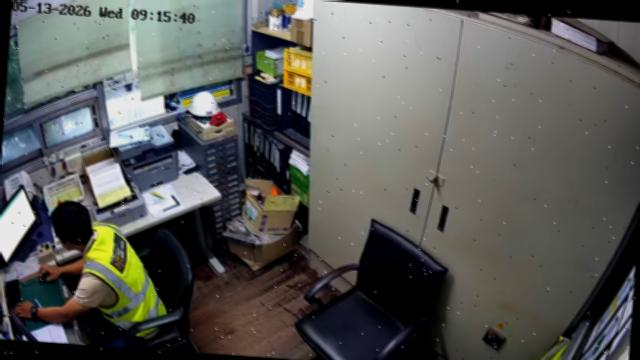Head: (50, 201, 95, 252)
People: (16, 201, 169, 346)
